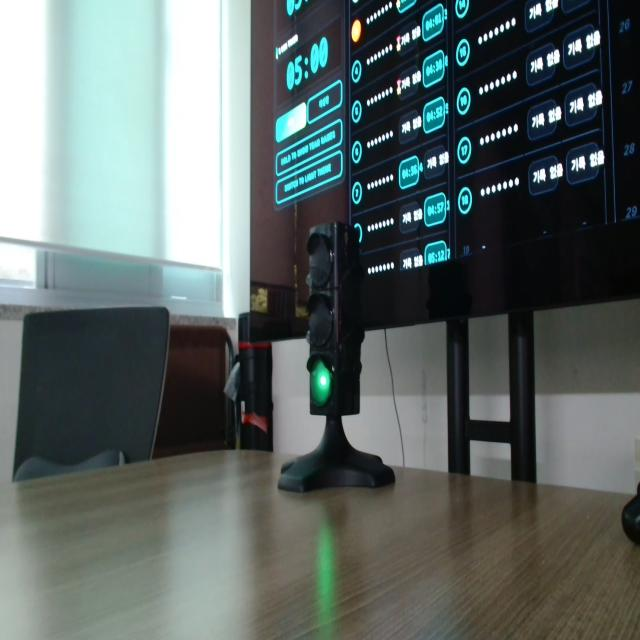green_light: (311, 361, 331, 406)
